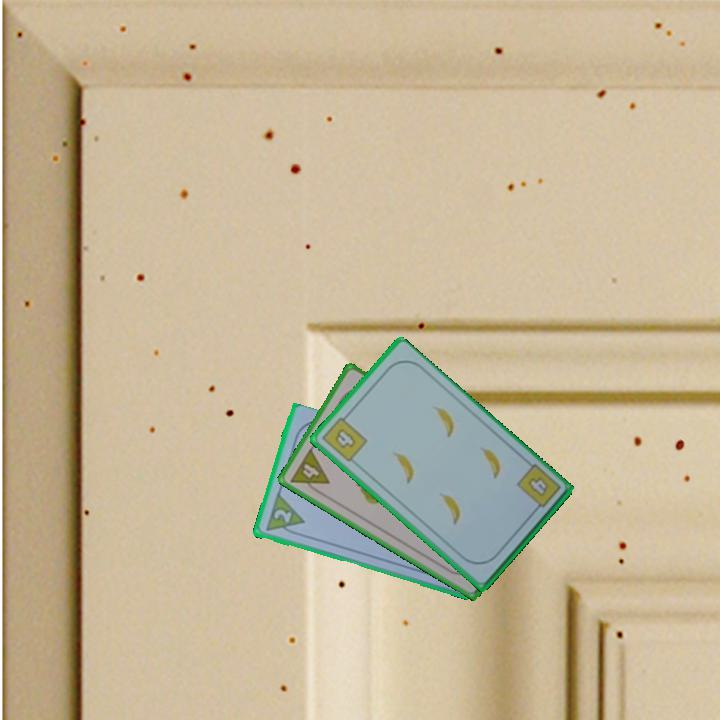2p: (270, 505, 294, 526)
4b: (318, 410, 370, 465), (513, 461, 564, 516)
4p: (286, 445, 332, 498)
